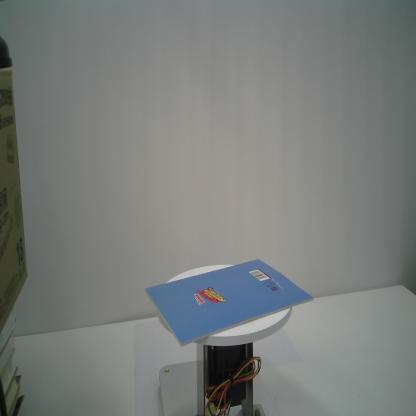Stationery: (142, 258, 314, 348)
